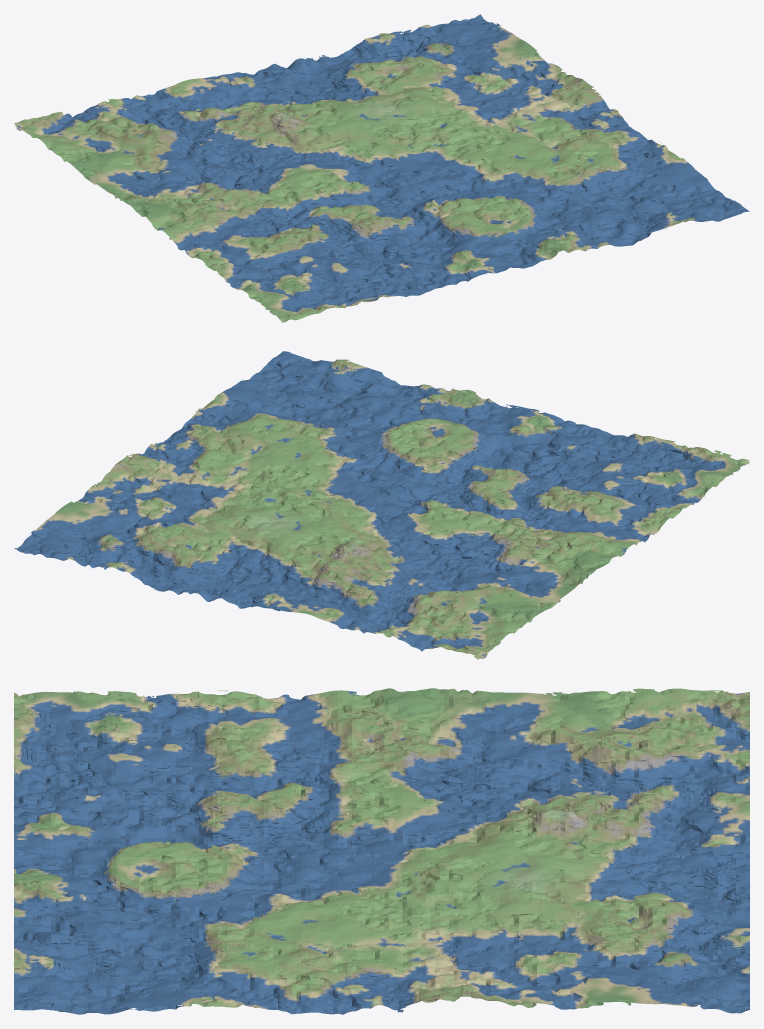
File: cave-world-1.glb
3 renders of one model, top to bottom at view 1: azimuth 30°, elevation 25°; view 2: azimuth 150°, elevation 25°; view 3: azimuth 270°, elevation 25°, orthographic. The views are drawn at different scales.
Visible parts, largest first — view 1: terrain; view 2: terrain; view 3: terrain.
Boxes of the visible parts, x1,y1,x2,y2 form: terrain: (14, 14, 749, 322); terrain: (14, 351, 749, 659); terrain: (14, 688, 749, 1014).
Bounding box in the file's own units: 4000 × 182 × 4000.
